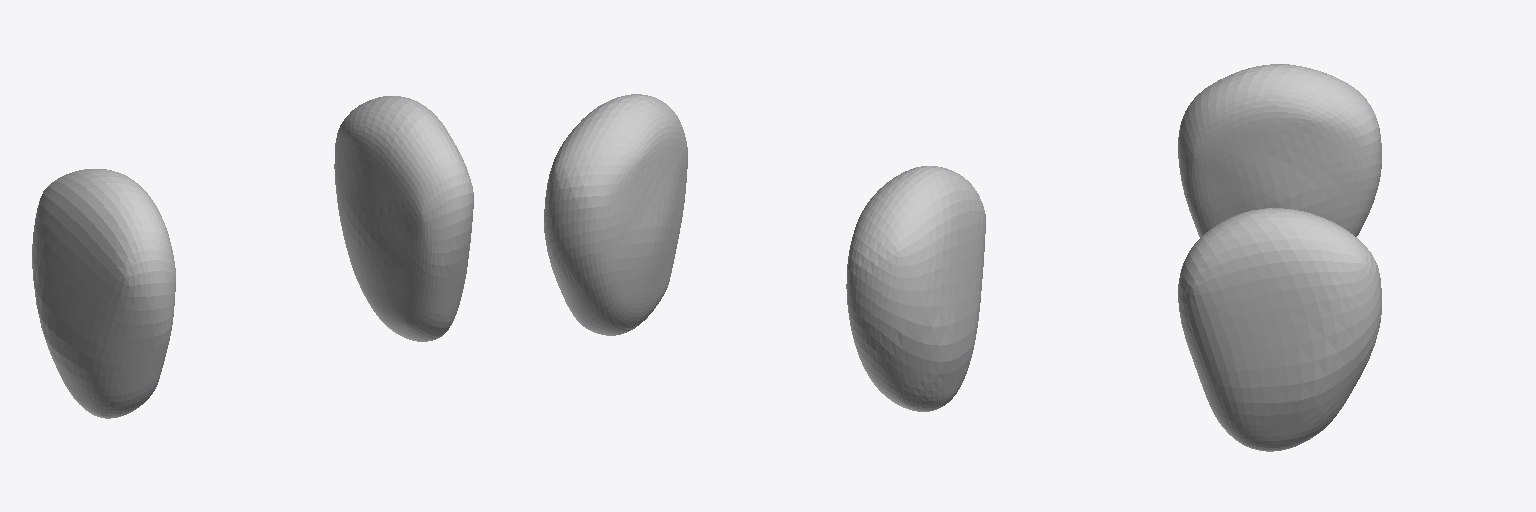
The model's file is UpperThighPads.OBJ.
3 renders of one model, left to right at view 1: azimuth 30°, elevation 25°; view 2: azimuth 150°, elevation 25°; view 3: azimuth 270°, elevation 25°, orthographic.
Visible parts, largest first — view 1: Group13; view 2: Group13; view 3: Group13.
Part boxes in pixels (x1,y1,x2,y2): Group13: (32, 96, 473, 418); Group13: (544, 94, 985, 411); Group13: (1178, 64, 1381, 451).
Bounding box in the file's own units: 49.12 × 27.74 × 22.06.